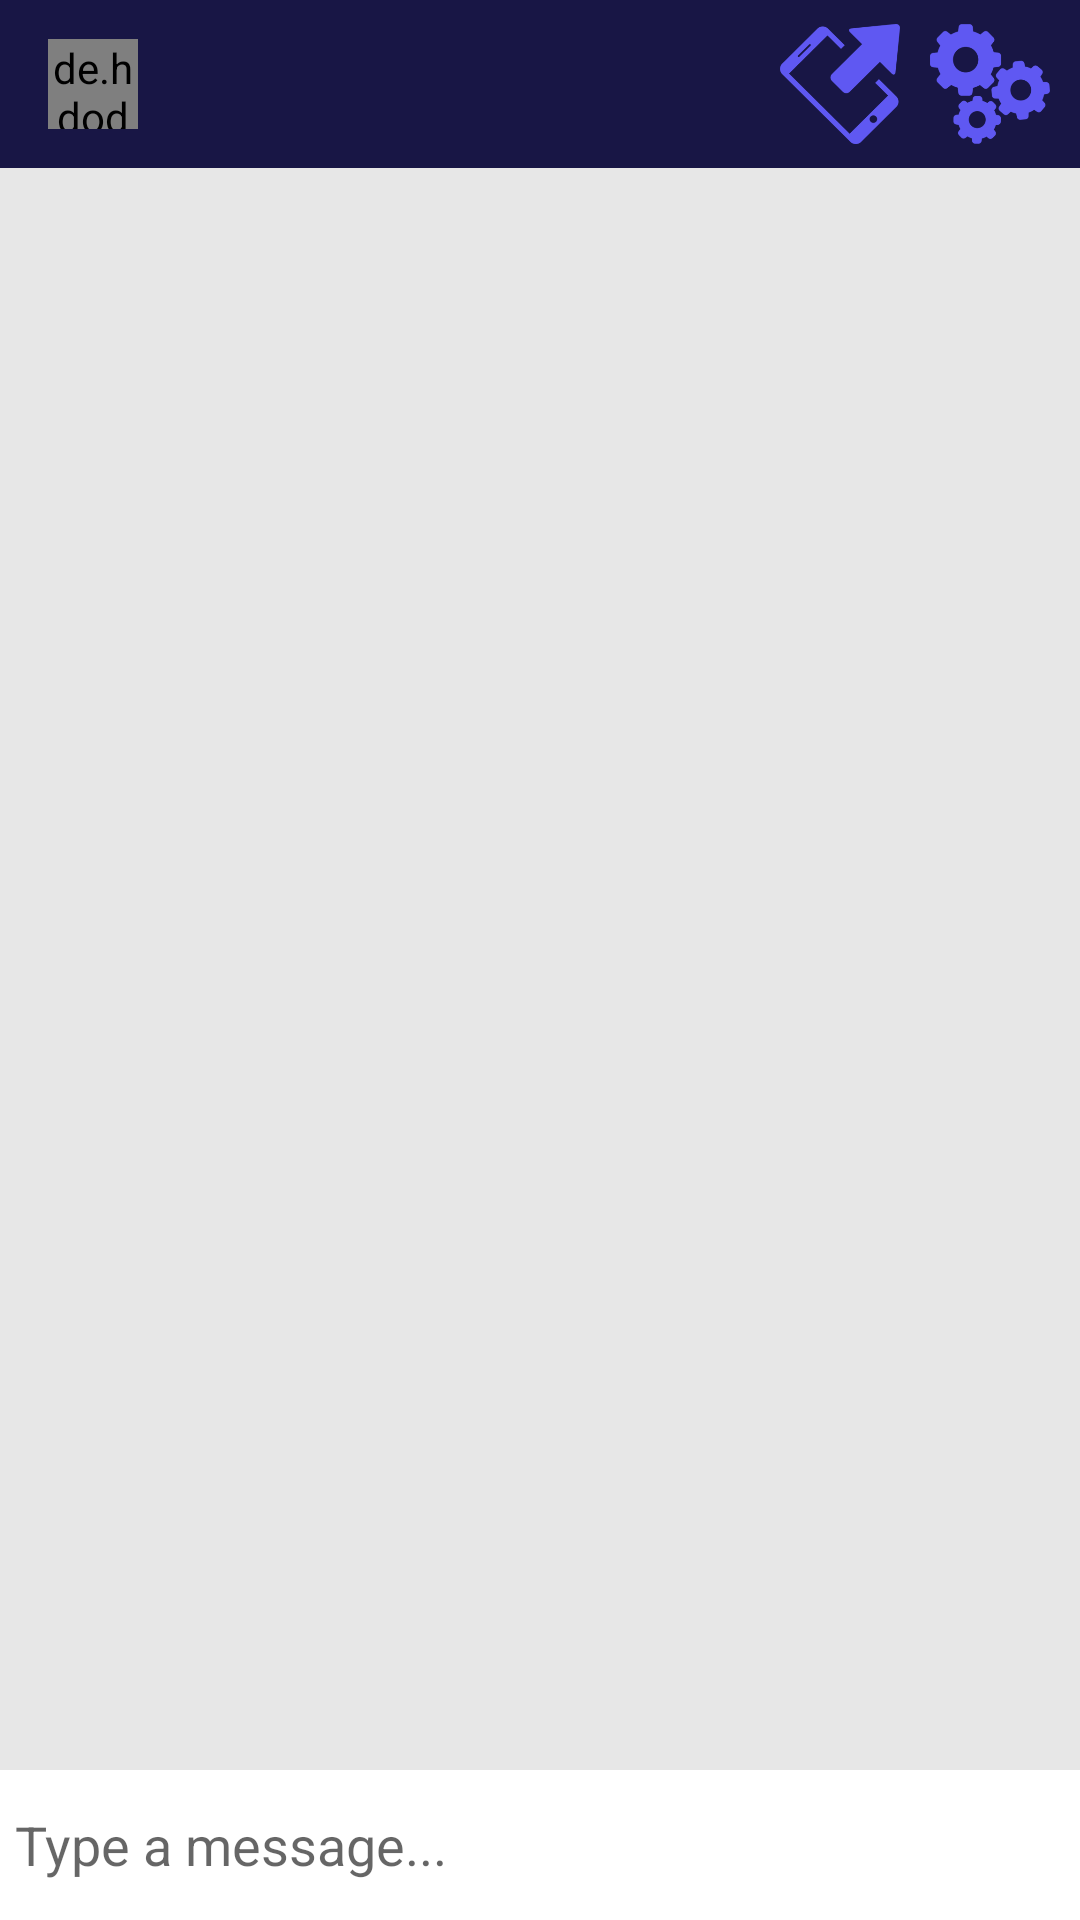

Point at icon controls on the screen. Image size 1080px×1920px, points as [x,y].
settings: [990,84]
